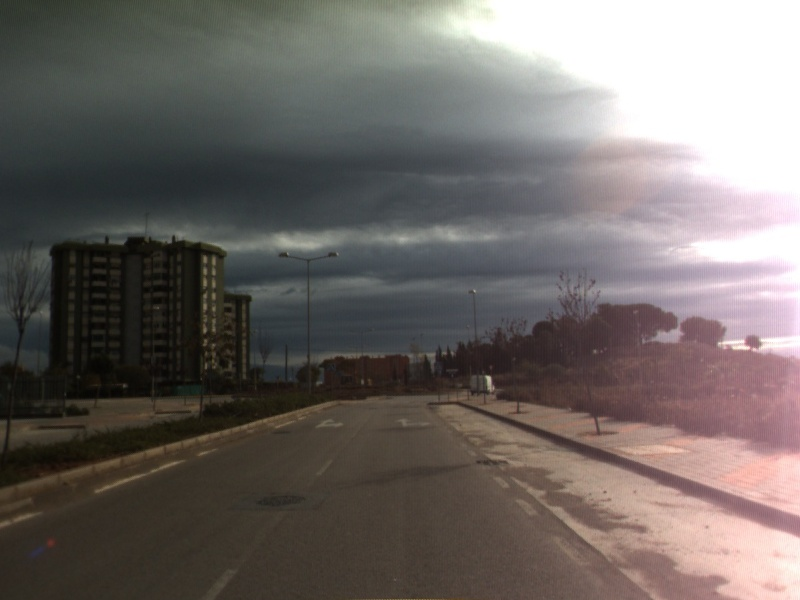STRAIGHT_RIGHT: (393, 416, 432, 429), (313, 417, 345, 430)
